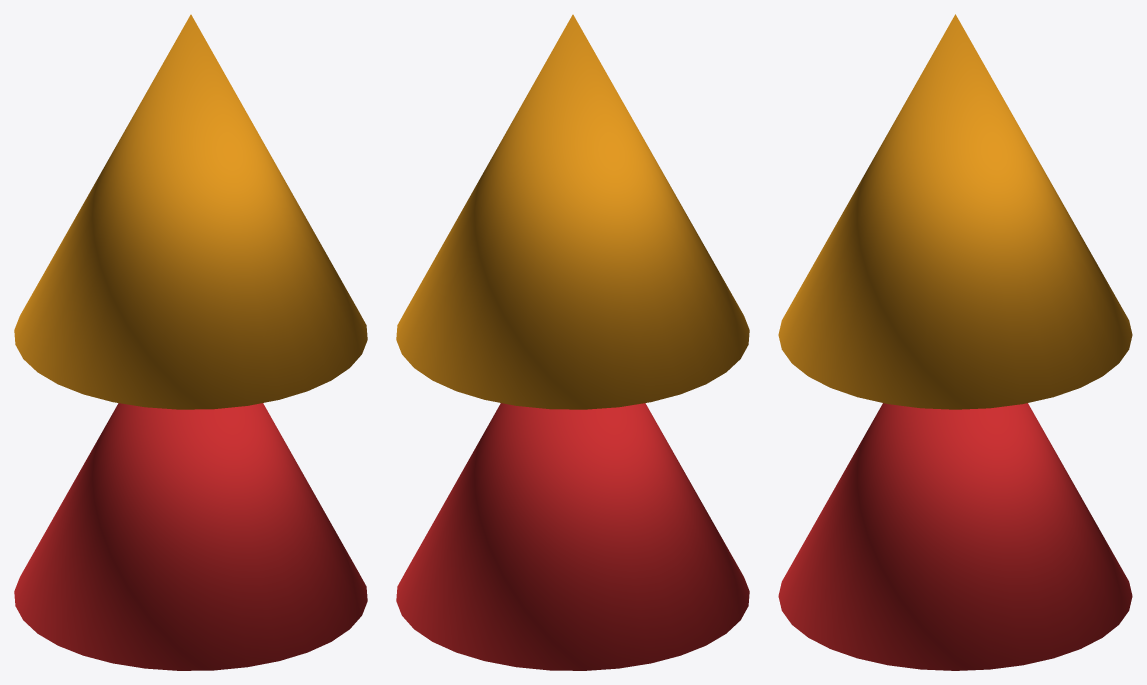
The model's file is zen.glb.
3 views of the same model, side by side, from view 1: azimuth 30°, elevation 25°; view 2: azimuth 150°, elevation 25°; view 3: azimuth 270°, elevation 25° (orthographic).
Parts seen in each view (by area): view 1: Cone.001, Cone; view 2: Cone.001, Cone; view 3: Cone.001, Cone.
Boxes of the visible parts, x1,y1,x2,y2 form: Cone.001: [14, 14, 367, 409]; Cone: [14, 403, 367, 670]; Cone.001: [396, 14, 749, 409]; Cone: [396, 403, 749, 670]; Cone.001: [778, 14, 1132, 409]; Cone: [778, 403, 1132, 670].
Size of the model in its own units: 2 by 3.63 by 2.
